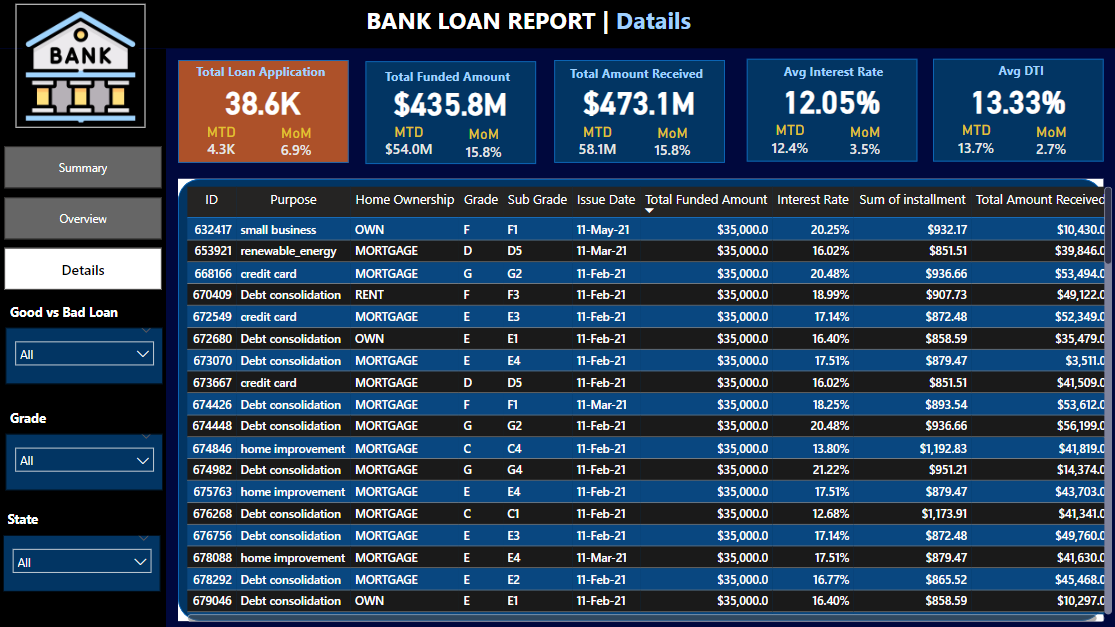

The dashboard page shown, as its layout file describes it:
{"tool":"powerbi","page":{"name":"Details","canvas":[1280,720],"ordinal":2},"visuals":[{"type":"shape","box":[0,0,1280,55.3],"z":0},{"type":"shape","box":[1068.8,67,195,117.5],"z":0,"group":"g5"},{"type":"shape","box":[856.2,68.1,195,117.5],"z":0,"group":"g4"},{"type":"shape","box":[206,69.5,195,117.5],"z":0,"group":"g1"},{"type":"shape","box":[420,69.5,195,117.5],"z":0,"group":"g2"},{"type":"shape","box":[635,69.5,195,117.5],"z":0,"group":"g3"},{"type":"shape","box":[0,55.5,192,664.5],"z":1000},{"type":"card","fields":{"Values":["financial_loan.Avg DTI"]},"box":[1084.5,72,162.5,81.2],"z":1000,"group":"g5"},{"type":"card","fields":{"Values":["financial_loan.Avg Interest Rate"]},"box":[871.9,73.1,162.5,81.2],"z":1000,"group":"g4"},{"type":"card","fields":{"Values":["financial_loan.Total Loan Applications"]},"box":[221.7,74.5,162.5,81.2],"z":1000,"group":"g1"},{"type":"card","fields":{"Values":["financial_loan.Total Funded Amount"]},"box":[435.7,74.5,162.5,81.2],"z":1000,"group":"g2"},{"type":"card","fields":{"Values":["financial_loan.Total Amount Received"]},"box":[650.7,74.5,162.5,81.2],"z":1000,"group":"g3"},{"type":"textbox","box":[416.1,0,448.6,51.9],"z":2000},{"type":"textbox","box":[1083.8,65,170,40],"z":2000,"group":"g5"},{"type":"textbox","box":[221,67.5,170,40],"z":2000,"group":"g1"},{"type":"textbox","box":[889.6,67.5,132.5,38.8],"z":2000,"group":"g4"},{"type":"textbox","box":[647.5,68.9,190,38.8],"z":2000,"group":"g3"},{"type":"textbox","box":[437.6,72.8,167.1,32.9],"z":2000,"group":"g2"},{"type":"group","id":"g1","title":"Group 1","box":[206,67.5,195,123.8],"z":3000},{"type":"card","title":"MTD","fields":{"Values":["financial_loan.MTD DTI"]},"box":[1074.5,137.5,87.5,50],"z":3000,"group":"g5"},{"type":"card","title":"MTD","fields":{"Values":["financial_loan.MTD Interest Rate"]},"box":[861.9,138.6,87.5,50],"z":3000,"group":"g4"},{"type":"card","title":"MTD","fields":{"Values":["financial_loan.MTD Loan Application"]},"box":[211.7,140,87.5,50],"z":3000,"group":"g1"},{"type":"card","title":"MTD","fields":{"Values":["financial_loan.MTD Funded Amount"]},"box":[425.7,140,87.5,50],"z":3000,"group":"g2"},{"type":"card","title":"MTD","fields":{"Values":["financial_loan.MTD Amount Received"]},"box":[640.7,140,87.5,50],"z":3000,"group":"g3"},{"type":"card","title":"MoM","fields":{"Values":["financial_loan.MOM DTI"]},"box":[1160.5,139.5,87.5,50],"z":4000,"group":"g5"},{"type":"card","title":"MoM","fields":{"Values":["financial_loan.MOM Interest Rate"]},"box":[947.9,140.6,87.5,50],"z":4000,"group":"g4"},{"type":"card","title":"MoM","fields":{"Values":["financial_loan.MOM Loan Application"]},"box":[297.7,142,87.5,50],"z":4000,"group":"g1"},{"type":"card","title":"MoM","fields":{"Values":["financial_loan.MOM Funded Amount"]},"box":[511.7,142,87.5,50],"z":4000,"group":"g2"},{"type":"card","title":"MoM","fields":{"Values":["financial_loan.MOM Amount Received"]},"box":[726.7,142,87.5,50],"z":4000,"group":"g3"},{"type":"shape","box":[206.2,203.8,1057.7,505.3],"z":4000},{"type":"textbox","box":[8.2,341.2,167.1,32.9],"z":4000,"group":"g8"},{"type":"textbox","box":[8.2,463.5,167.1,32.9],"z":4000,"group":"g7"},{"type":"textbox","box":[5.2,577.9,167.1,32.9],"z":4000,"group":"g6"},{"type":"group","id":"g2","title":"Group 1","box":[420,69.5,195,122.5],"z":5000},{"type":"group","id":"g3","title":"Group 1","box":[635,68.9,202.5,123.1],"z":6000},{"type":"group","id":"g4","title":"Group 1","box":[856.2,67.5,195,123.8],"z":7000},{"type":"group","id":"g5","title":"Group 1","box":[1068.8,65,195,123.8],"z":8000},{"type":"group","id":"g6","title":"Group 4","box":[5.2,577.9,180,97.9],"z":9000},{"type":"group","id":"g7","title":"Group 4","box":[8.2,463.5,180,97.6],"z":10000},{"type":"group","id":"g8","title":"Group 4","box":[8.2,341.2,180,97.6],"z":11000},{"type":"tableEx","fields":{"Values":["financial_loan.id","financial_loan.purpose","financial_loan.home_ownership","financial_loan.grade","financial_loan.sub_grade","financial_loan.issue_date","financial_loan.Total Funded Amount","financial_loan.int_rate","Sum(financial_loan.installment)","financial_loan.Total Amount Received"]},"box":[209.8,208.6,1067.3,507.7],"z":12000},{"type":"pageNavigator","box":[7.2,166.4,180.9,166.4],"z":13000},{"type":"image","box":[20.5,3.6,148.3,142.3],"z":14000},{"type":"slicer","fields":{"Values":["financial_loan.Good Vs Bad loan"]},"box":[8.2,374.1,180,65],"z":18000,"group":"g8"},{"type":"slicer","fields":{"Values":["financial_loan.grade"]},"box":[8.2,496.4,180,65],"z":18000,"group":"g7"},{"type":"slicer","fields":{"Values":["financial_loan.address_state"]},"box":[5.2,610.8,180,65],"z":18000,"group":"g6"}]}

Visuals, with their boxes in screenshot pixels (x1, y1, x2, y2), scaled from the page's 1280x720 canvas onto the 1115x627 screenshot:
shape: 0,0,1114,48
shape: 931,58,1101,161
shape: 746,59,916,162
shape: 179,61,349,163
shape: 366,61,536,163
shape: 553,61,723,163
shape: 0,48,167,626
card - financial_loan.Avg DTI: 945,63,1086,133
card - financial_loan.Avg Interest Rate: 760,64,901,134
card - financial_loan.Total Loan Applications: 193,65,335,136
card - financial_loan.Total Funded Amount: 380,65,521,136
card - financial_loan.Total Amount Received: 567,65,708,136
textbox: 362,0,753,45
textbox: 944,57,1092,91
textbox: 193,59,341,94
textbox: 775,59,890,93
textbox: 564,60,730,94
textbox: 381,63,527,92
"Group 1" group: 179,59,349,167
"MTD" card: 936,120,1012,163
"MTD" card: 751,121,827,164
"MTD" card: 184,122,261,165
"MTD" card: 371,122,447,165
"MTD" card: 558,122,634,165
"MoM" card: 1011,121,1087,165
"MoM" card: 826,122,902,166
"MoM" card: 259,124,336,167
"MoM" card: 446,124,522,167
"MoM" card: 633,124,709,167
shape: 180,177,1101,618
textbox: 7,297,153,326
textbox: 7,404,153,432
textbox: 5,503,150,532
"Group 1" group: 366,61,536,167
"Group 1" group: 553,60,730,167
"Group 1" group: 746,59,916,167
"Group 1" group: 931,57,1101,164
"Group 4" group: 5,503,161,589
"Group 4" group: 7,404,164,489
"Group 4" group: 7,297,164,382
tableEx - financial_loan.id x financial_loan.purpose: 183,182,1112,624
pageNavigator: 6,145,164,290
image: 18,3,147,127
slicer - financial_loan.Good Vs Bad loan: 7,326,164,382
slicer - financial_loan.grade: 7,432,164,489
slicer - financial_loan.address_state: 5,532,161,589
